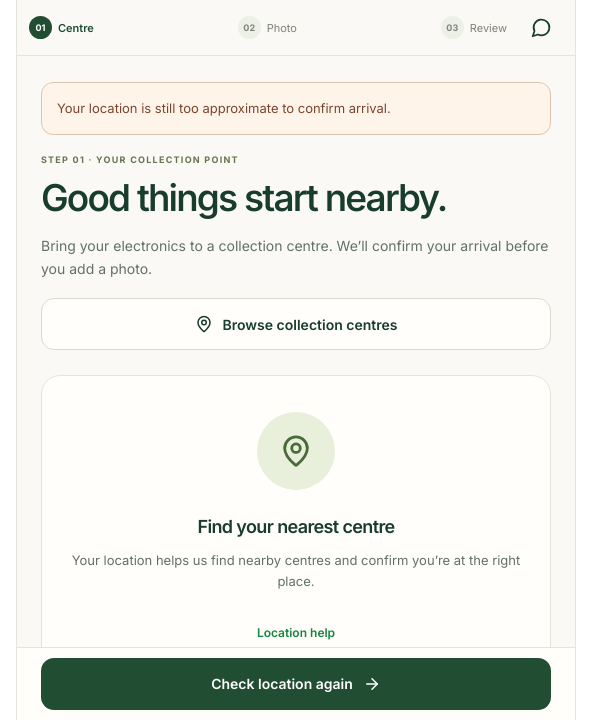
Scenario: keeps centre browsing and directions usable after telegram location fails without bypassing arrival
Click the button "Browse collection centres": (296, 324) [41,298,551,350]
(page scrolled)
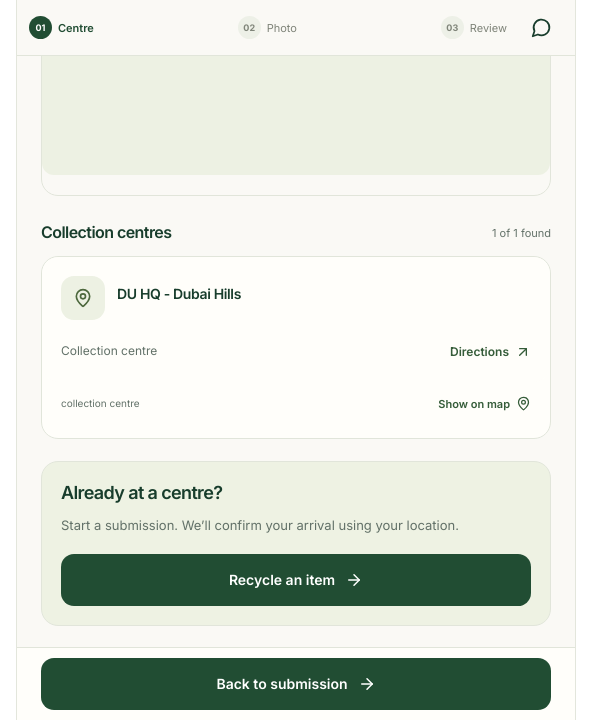
Click the button with aria-label "Directions to DU HQ - Dubai Hills": (490, 352) [450,330,531,374]
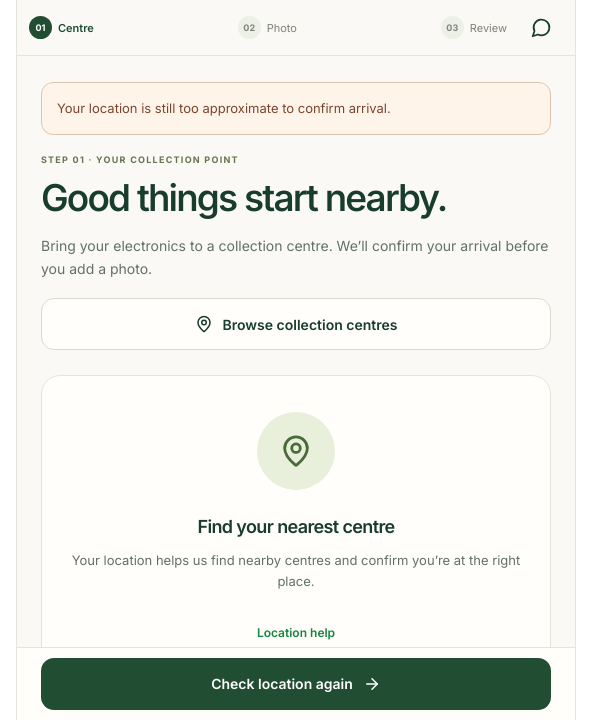
Result: the button "Check location again" is shown at [41,658,551,710]
